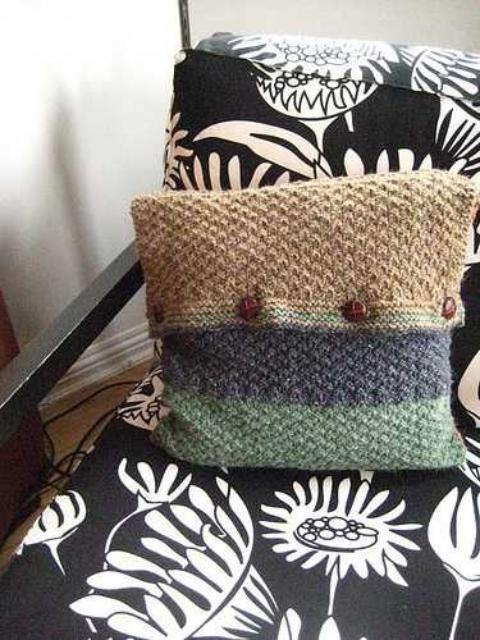pillow: (128, 168, 478, 470)
